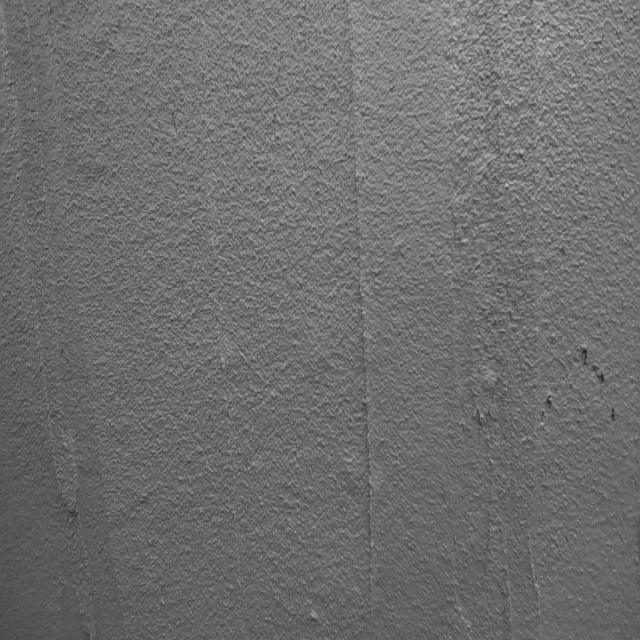trowels marks: (348, 5, 386, 640), (572, 341, 620, 431)
